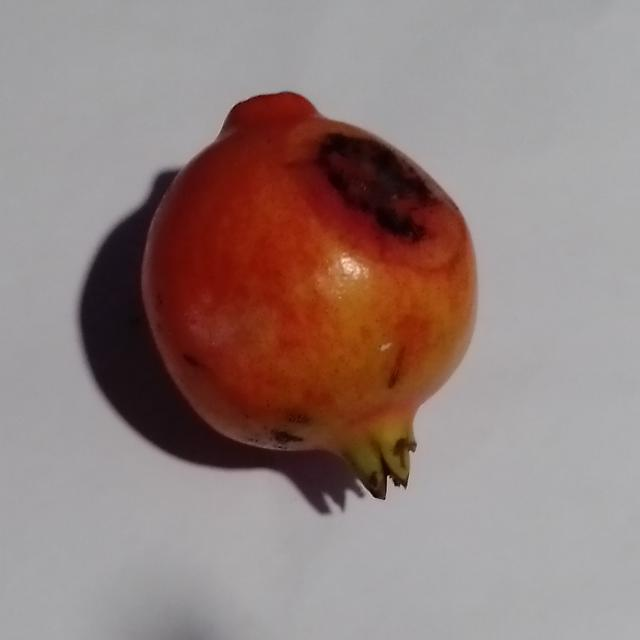Rotten: (129, 88, 481, 505)
